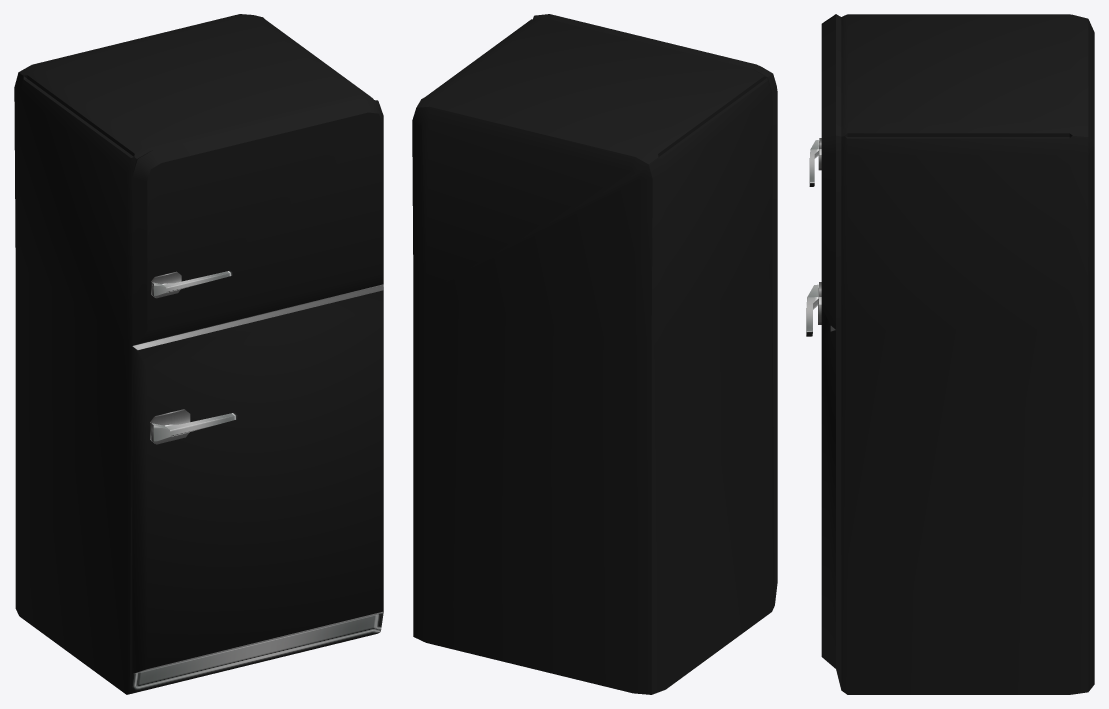
The model's file is Fridge_04.FBX.
The picture shows the model from 3 angles, left to right: view 1: azimuth 30°, elevation 25°; view 2: azimuth 150°, elevation 25°; view 3: azimuth 270°, elevation 25°; orthographic projection. The views are drawn at different scales.
Parts seen in each view (by area): view 1: Fridge; view 2: Fridge; view 3: Fridge.
Boxes of the visible parts, x1,y1,x2,y2 form: Fridge: (14, 14, 383, 694); Fridge: (412, 14, 777, 694); Fridge: (806, 14, 1094, 694).
Bounding box in the file's own units: 145 × 300 × 139.
